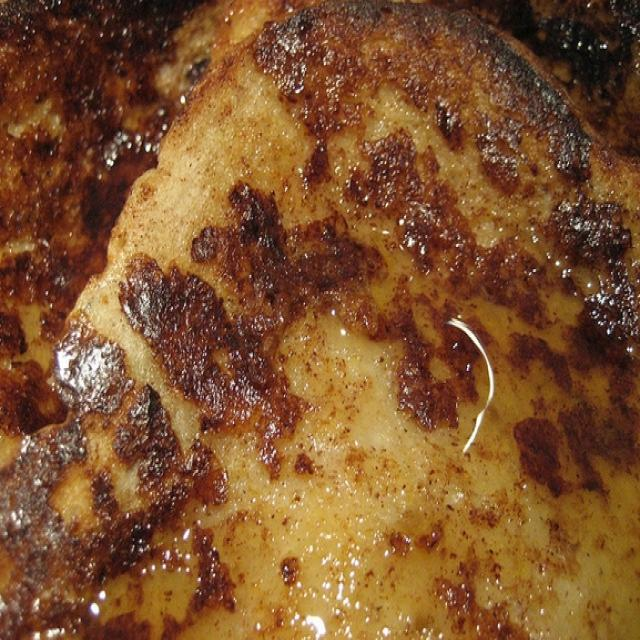面包点心: (8, 13, 621, 624)
